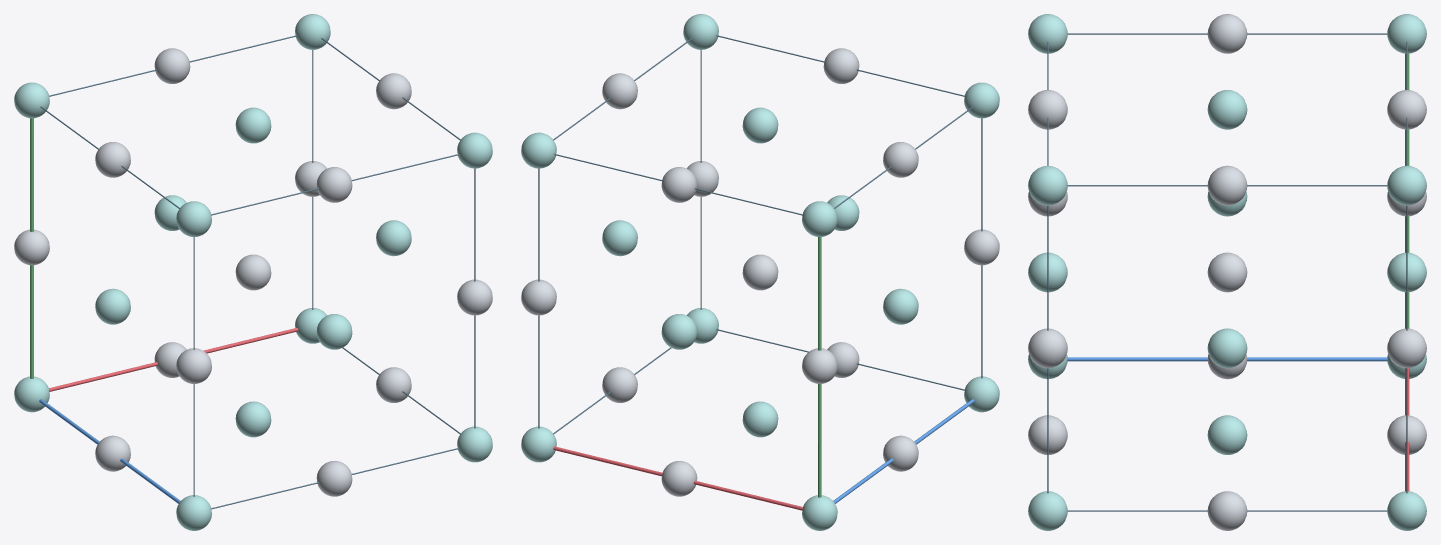
File: chat-silver-bromide.glb
3 views of the same model, side by side, from view 1: azimuth 30°, elevation 25°; view 2: azimuth 150°, elevation 25°; view 3: azimuth 270°, elevation 25° (orthographic). The views are drawn at different scales.
Parts seen in each view (by area): view 1: Br · Br · 1 (×14), Ag · Ag · 1 (×13), Ô mạng và các trục a, b, c; view 2: Br · Br · 1 (×14), Ag · Ag · 1 (×13), Ô mạng và các trục a, b, c; view 3: Br · Br · 1 (×12), Ag · Ag · 1 (×10), Ô mạng và các trục a, b, c.
Boxes of the visible parts, <box> form: Br · Br · 1 (×14): <box>14,14,492,530</box>; Ag · Ag · 1 (×13): <box>14,48,492,496</box>; Ô mạng và các trục a, b, c: <box>30,35,475,509</box>; Br · Br · 1 (×14): <box>521,14,999,530</box>; Ag · Ag · 1 (×13): <box>521,48,999,496</box>; Ô mạng và các trục a, b, c: <box>538,35,982,510</box>; Br · Br · 1 (×12): <box>1028,14,1426,530</box>; Ag · Ag · 1 (×10): <box>1028,14,1426,530</box>; Ô mạng và các trục a, b, c: <box>1047,33,1409,511</box>.
Size of the model in its own units: 6.41 by 6.41 by 6.41.
